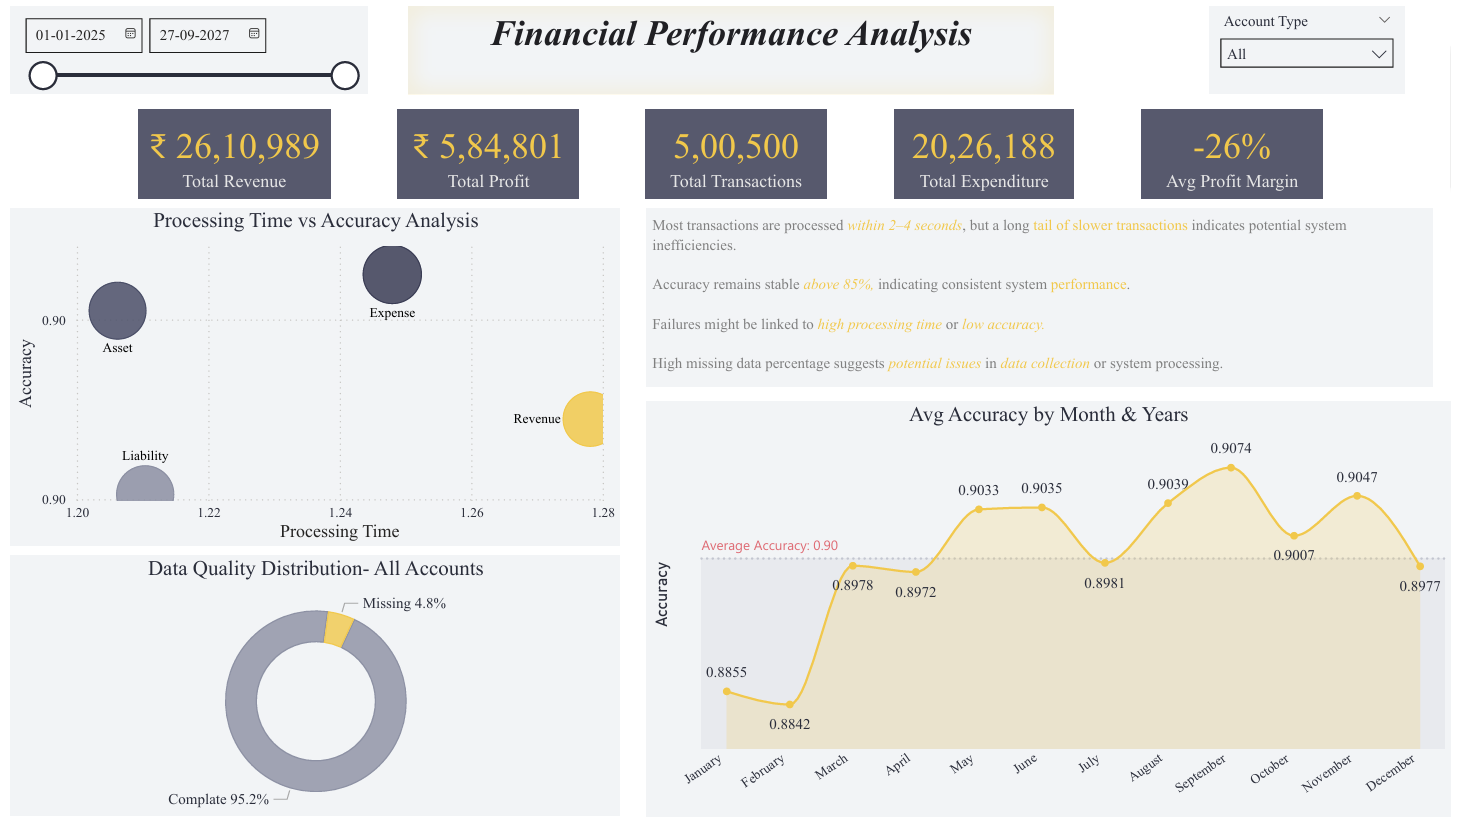

Layout of this report page (visuals, bound fields, positions):
{"tool":"powerbi","page":{"name":"OPERATIONS","canvas":[1280,720],"ordinal":2},"visuals":[{"type":"slicer","fields":{"Values":["accounting_data.Account Type"]},"box":[1065.1,0,173.9,78.4],"z":0,"group":"g1"},{"type":"card","fields":{"Values":["accounting_data.Total Revenue"]},"box":[113.2,90.8,171.2,79.6],"z":0,"group":"g2"},{"type":"slicer","fields":{"Values":["accounting_data.Date"]},"box":[0,0,317.9,78.4],"z":1000,"group":"g1"},{"type":"card","fields":{"Values":["accounting_data.Total Profit"]},"box":[344.3,90.8,160.4,79.6],"z":1000,"group":"g2"},{"type":"textbox","box":[352.8,0,574.4,78.4],"z":2000,"group":"g1"},{"type":"card","fields":{"Values":["accounting_data.Total Transactions"]},"box":[564.7,90.8,160.4,79.6],"z":2000,"group":"g2"},{"type":"card","fields":{"Values":["accounting_data.Total Expenditure"]},"box":[785,90.8,160.4,79.6],"z":3000,"group":"g2"},{"type":"textbox","box":[564.8,179.1,699.1,159.2],"z":3000,"group":"g4"},{"type":"card","fields":{"Values":["accounting_data.Avg Profit Margin"]},"box":[1005.4,90.8,160.4,79.6],"z":4000,"group":"g2"},{"type":"lineChart","title":"Avg Accuracy by Month & Years","fields":{"Y":["accounting_data.Avg Accuracy"],"Category":["accounting_data.Date.Variation.Date Hierarchy.Year","accounting_data.Date.Variation.Date Hierarchy.Month"]},"box":[564.8,350.8,715.3,369.5],"z":4000,"group":"g4"},{"type":"card","fields":{"Values":["accounting_data.Missing %"]},"box":[210.2,577.2,121.9,75.9],"z":10000,"group":"g3"},{"type":"scatterChart","title":"Processing Time vs Accuracy Analysis","fields":{"X":["accounting_data.Avg Processing Time"],"Y":["accounting_data.Avg Accuracy"],"Size":["accounting_data.Total Revenue"],"Series":["accounting_data.Account Type"]},"box":[0,179.1,542.4,299.8],"z":12000,"group":"g3"},{"type":"donutChart","fields":{"Category":["accounting_data.Missing Data Status"],"Y":["accounting_data.Total Records"]},"box":[0,487.6,542.4,232.6],"z":13000,"group":"g3"},{"type":"group","id":"g1","title":"Group 1","box":[0,0,1238.9,78.4],"z":13001},{"type":"group","id":"g2","title":"Group 2","box":[113.2,90.8,1053.6,79.6],"z":13002},{"type":"group","id":"g3","title":"Group 3","box":[0,179.1,542.4,541.1],"z":13003},{"type":"group","id":"g4","title":"Group 4","box":[564.8,179.1,715.3,541.1],"z":13004}]}

Visuals, with their boxes in screenshot pixels (x1, y1, x2, y2), scaled from the page's 1280x720 canvas onto the 1462x828 screenshot:
slicer - accounting_data.Account Type: crop(1217, 0, 1415, 90)
card - accounting_data.Total Revenue: crop(129, 104, 325, 196)
slicer - accounting_data.Date: crop(0, 0, 363, 90)
card - accounting_data.Total Profit: crop(393, 104, 576, 196)
textbox: crop(403, 0, 1059, 90)
card - accounting_data.Total Transactions: crop(645, 104, 828, 196)
card - accounting_data.Total Expenditure: crop(897, 104, 1080, 196)
textbox: crop(645, 206, 1444, 389)
card - accounting_data.Avg Profit Margin: crop(1148, 104, 1332, 196)
"Avg Accuracy by Month & Years" lineChart: crop(645, 403, 1461, 827)
card - accounting_data.Missing %: crop(240, 664, 379, 751)
"Processing Time vs Accuracy Analysis" scatterChart: crop(0, 206, 620, 551)
donutChart - accounting_data.Missing Data Status x accounting_data.Total Records: crop(0, 561, 620, 827)
"Group 1" group: crop(0, 0, 1415, 90)
"Group 2" group: crop(129, 104, 1333, 196)
"Group 3" group: crop(0, 206, 620, 827)
"Group 4" group: crop(645, 206, 1461, 827)
